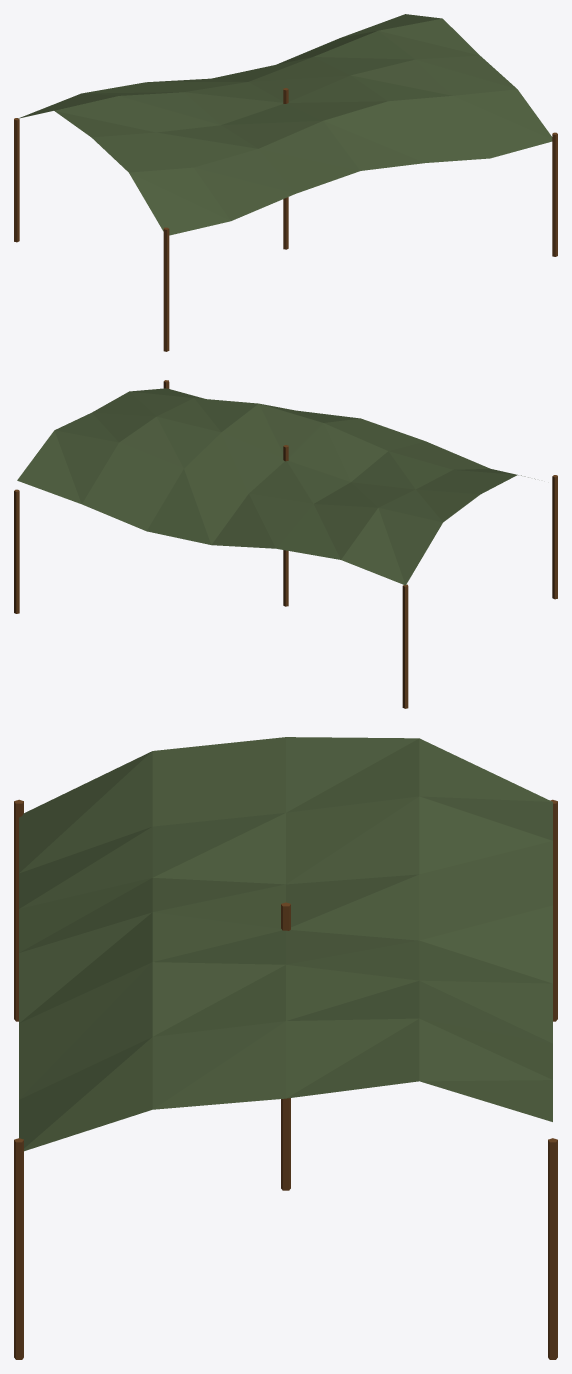
The model's file is camo_net.glb.
3 views of the same model, one above another, from view 1: azimuth 30°, elevation 25°; view 2: azimuth 150°, elevation 25°; view 3: azimuth 270°, elevation 25° (orthographic). The views are drawn at different scales.
Parts seen in each view (by area): view 1: camo_net; view 2: camo_net; view 3: camo_net.
Part boxes in pixels (bbox=[...]): camo_net: bbox=[14, 14, 557, 351]; camo_net: bbox=[14, 380, 557, 708]; camo_net: bbox=[14, 737, 557, 1359].
Bounding box in the file's own units: 6.07 × 2.35 × 4.08.
